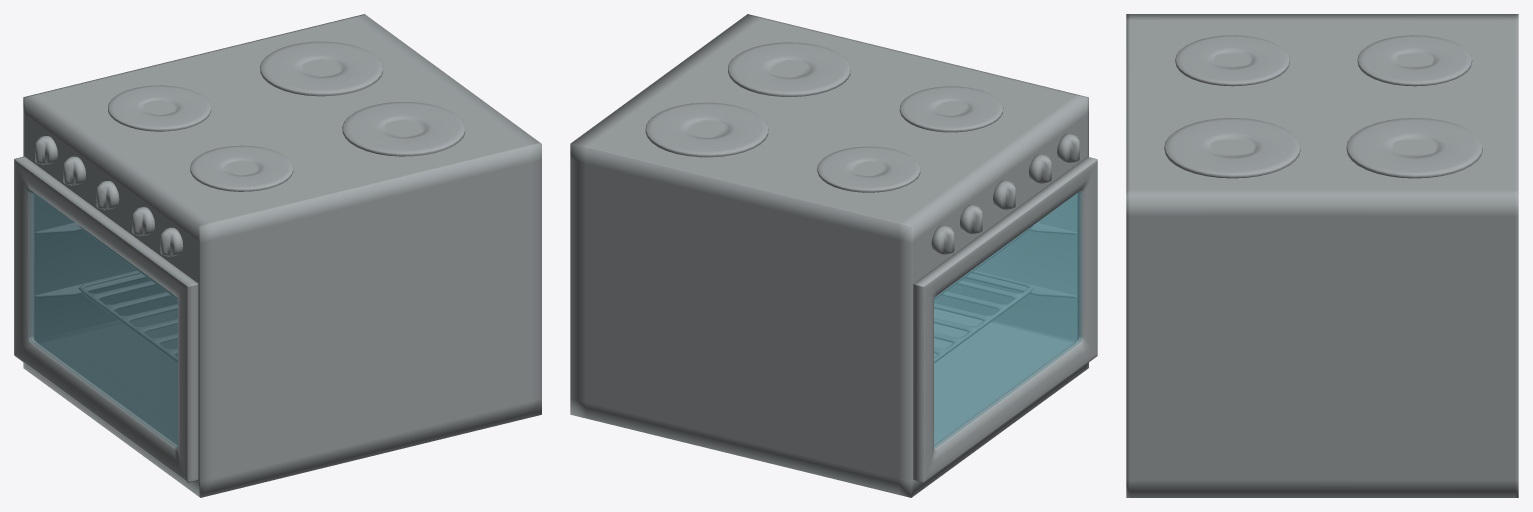
The model's file is Oven2.fbx.
3 renders of one model, left to right at view 1: azimuth 30°, elevation 25°; view 2: azimuth 150°, elevation 25°; view 3: azimuth 270°, elevation 25°, orthographic. The views are drawn at different scales.
Visible parts, largest first — view 1: heatpads.004; view 2: heatpads.004; view 3: heatpads.004.
Part boxes in pixels (x1=…): heatpads.004: x1=14, y1=14, x2=541, y2=497; heatpads.004: x1=570, y1=14, x2=1097, y2=497; heatpads.004: x1=1126, y1=14, x2=1518, y2=497.
Size of the model in its own units: 156 by 115 by 135.
